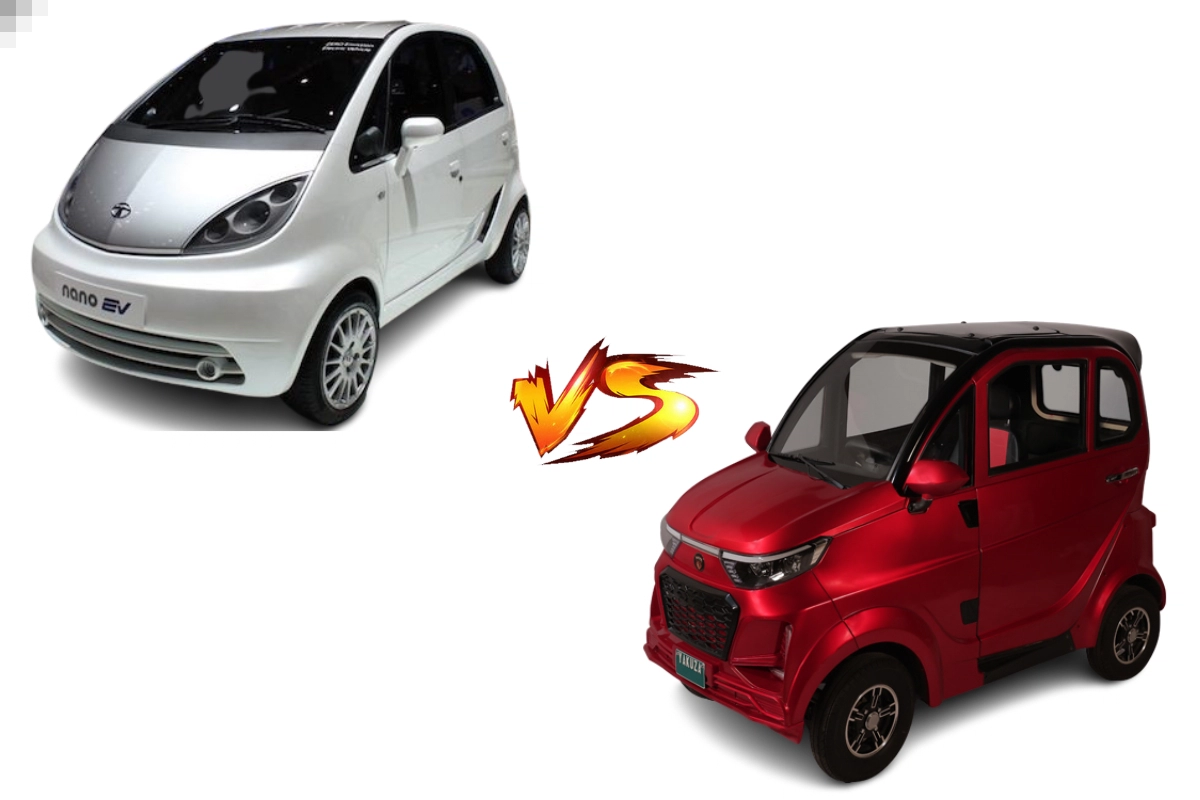Nano: (35, 11, 538, 425)
